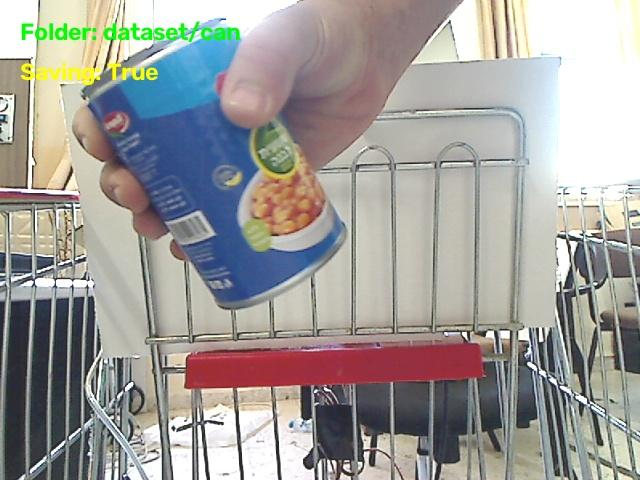can: (83, 38, 345, 308)
